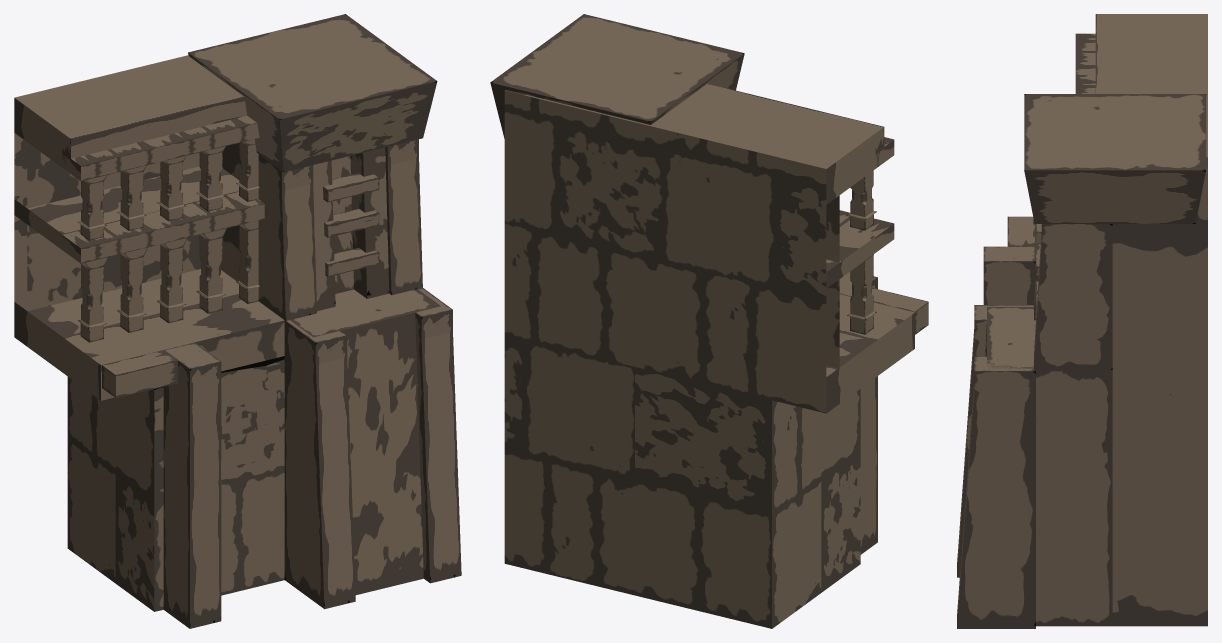
Rendered from front_gate.fbx.
The picture shows the model from 3 angles, left to right: view 1: azimuth 30°, elevation 25°; view 2: azimuth 150°, elevation 25°; view 3: azimuth 270°, elevation 25°; orthographic projection. The views are drawn at different scales.
Visible parts, largest first — view 1: b.001, b.004, b.019, b.021, b.002, b.016, b.020, collum_vault.001, b.003, collum_vault.002, b.005, b.006 (+5 smaller); view 2: b.001, b.021, b.004, b.016, b.006, collum_vault.001, collum_vault.002, b.017, b.005; view 3: b.001, b.021, b.002, b.019, b.020, b.016, b.006, b.018, b.017.
Boxes of the visible parts, x1,y1,x2,y2 form: b.001: (14, 55, 240, 583); b.004: (62, 294, 284, 611); b.019: (284, 287, 461, 609); b.021: (188, 14, 437, 172); b.002: (290, 289, 440, 594); b.016: (163, 342, 221, 628); b.020: (258, 139, 422, 320); collum_vault.001: (78, 220, 259, 342); b.003: (313, 147, 389, 311); collum_vault.002: (78, 139, 259, 240); b.005: (62, 192, 264, 263); b.006: (62, 90, 247, 170); b.001: (504, 90, 875, 628); b.021: (490, 14, 744, 138); b.004: (821, 294, 914, 592); b.016: (839, 272, 877, 554); b.006: (699, 83, 884, 167); collum_vault.001: (847, 254, 876, 334); collum_vault.002: (847, 170, 876, 230); b.017: (872, 288, 928, 334); b.005: (839, 210, 894, 252); b.001: (1112, 14, 1207, 626); b.021: (1024, 94, 1206, 223); b.002: (984, 307, 1112, 626); b.019: (957, 305, 1035, 628); b.020: (1034, 224, 1112, 371); b.016: (983, 246, 1035, 304); b.006: (1095, 14, 1112, 93); b.018: (1075, 33, 1095, 93); b.017: (1007, 216, 1035, 246).
Bounding box in the file's own units: 3304 × 4467 × 2190.
